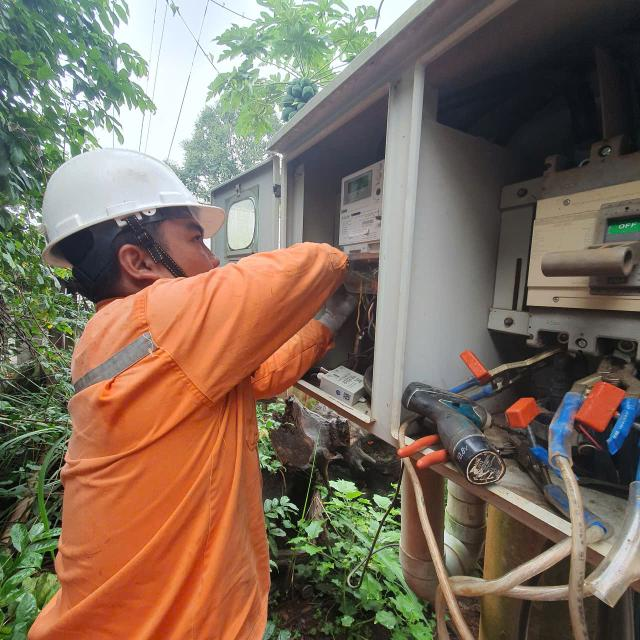helmet: (21, 134, 250, 261)
